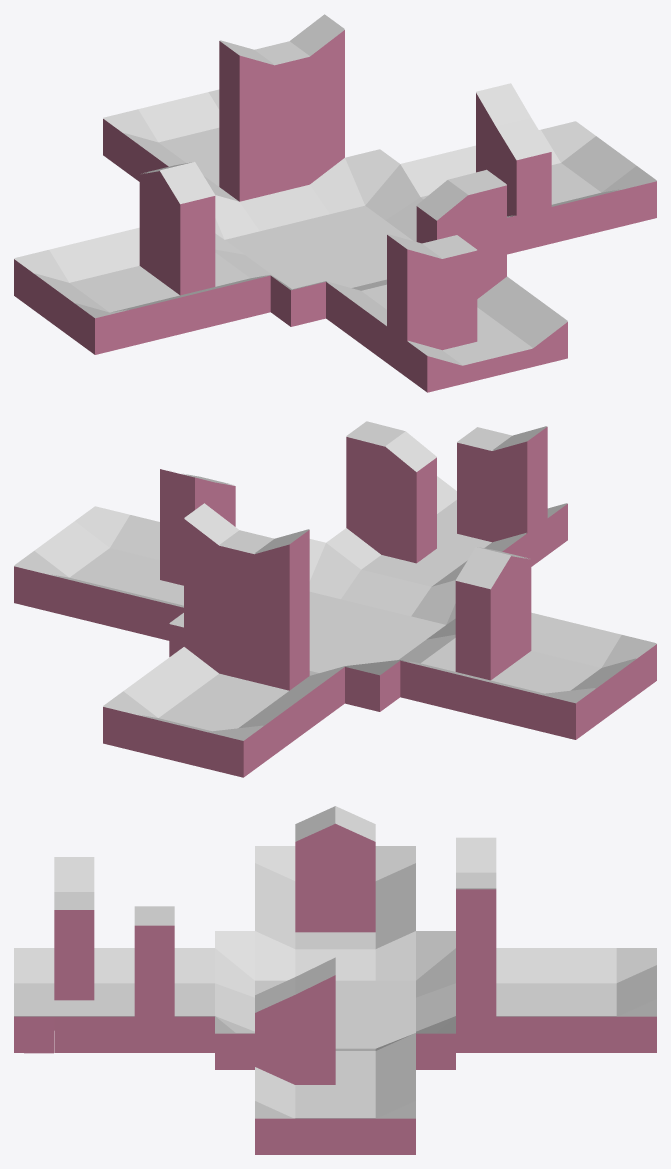
File: lvl2-Crossroads-v3.glb
3 views of the same model, one above another, from view 1: azimuth 30°, elevation 25°; view 2: azimuth 150°, elevation 25°; view 3: azimuth 270°, elevation 25° (orthographic).
Visible parts, largest first — view 1: Terrain, Tile.112, Tile.063, Tile.056, Tile.080, Tile.079, Tile.051, Tile.054, Tile.075, Tile.086, Tile.076, Tile.059 (+40 smaller); view 2: Terrain, Tile.032, Tile.013, Tile.009, Tile.085, Tile.045, Tile.090, Tile.007, Tile.098, Tile.047, Tile.033, Tile.074 (+41 smaller); view 3: Terrain, Tile.052, Tile.011, Tile.006, Tile.069, Tile.003, Tile.005, Tile.066, Tile.072, Tile.087, Tile.083, Tile.008 (+63 smaller).
Boxes of the visible parts, x1,y1,x2,y2 form: Terrain: (14,29,656,392); Tile.112: (310,158,364,213); Tile.063: (345,149,399,205); Tile.056: (365,164,420,220); Tile.080: (476,83,530,126); Tile.079: (496,118,551,159); Tile.051: (49,241,103,282); Tile.054: (84,232,139,274); Tile.075: (138,101,193,142); Tile.086: (160,162,214,203); Tile.076: (173,92,219,133); Tile.059: (215,195,259,239); Terrain: (14,426,656,777); Tile.032: (309,543,360,598); Tile.013: (531,617,586,659); Tile.009: (567,626,621,667); Tile.085: (456,547,510,588); Tile.045: (110,515,159,556); Tile.090: (411,580,455,624); Tile.007: (376,578,430,616); Tile.098: (341,569,395,607); Tile.047: (75,506,129,547); Tile.033: (326,528,380,569); Tile.074: (123,676,178,717); Terrain: (14,823,656,1154); Tile.052: (375,931,415,980); Tile.011: (255,931,295,980); Tile.006: (94,948,134,983); Tile.069: (536,948,576,983); Tile.003: (174,948,214,983); Tile.005: (14,948,54,983); Tile.066: (496,948,536,983); Tile.072: (576,948,616,983); Tile.087: (456,837,496,872); Tile.083: (54,857,94,891); Tile.008: (215,931,254,980).
Size of the model in its own units: 16 by 4.52 by 16.
